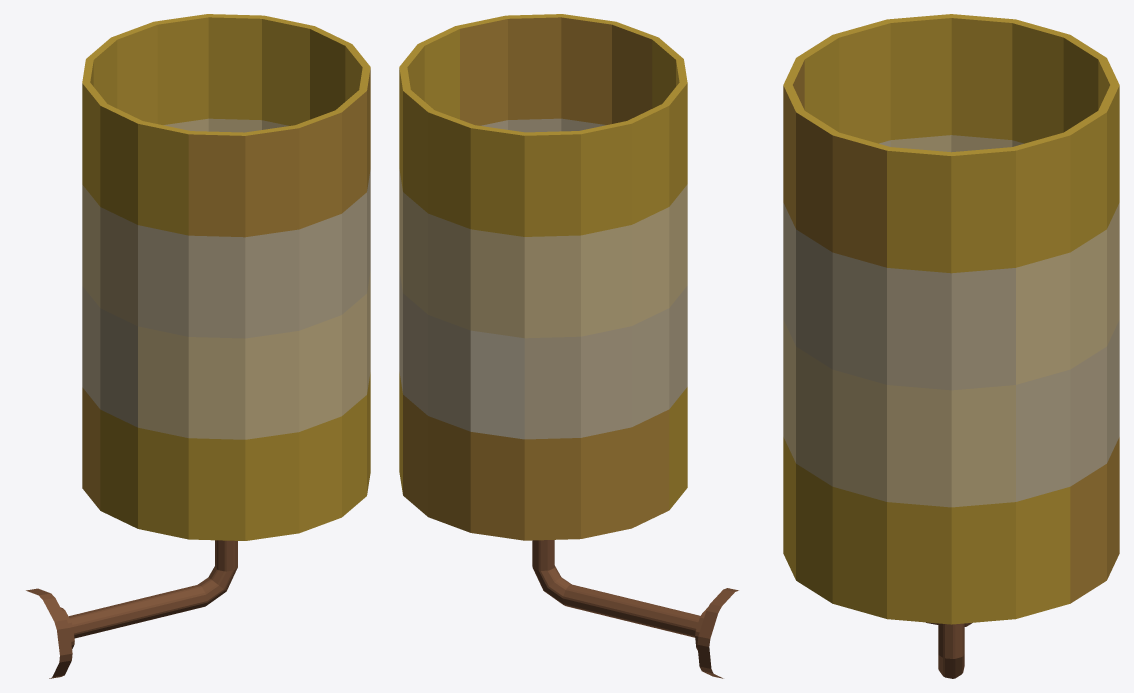
File: wall_lamp.glb
The picture shows the model from 3 angles, left to right: view 1: azimuth 30°, elevation 25°; view 2: azimuth 150°, elevation 25°; view 3: azimuth 270°, elevation 25°; orthographic projection. The views are drawn at different scales.
Parts seen in each view (by area): view 1: LampOff; view 2: LampOff; view 3: LampOff.
Part boxes in pixels (bbox=[...]): LampOff: bbox=[26, 14, 370, 678]; LampOff: bbox=[399, 14, 738, 678]; LampOff: bbox=[783, 14, 1119, 678].
Bounding box in the file's own units: 0.2973 × 0.5 × 0.2372.
